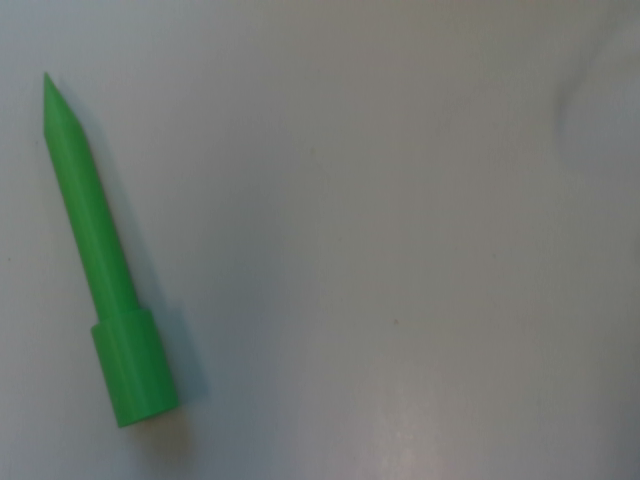Probe: (38, 65, 187, 436)
